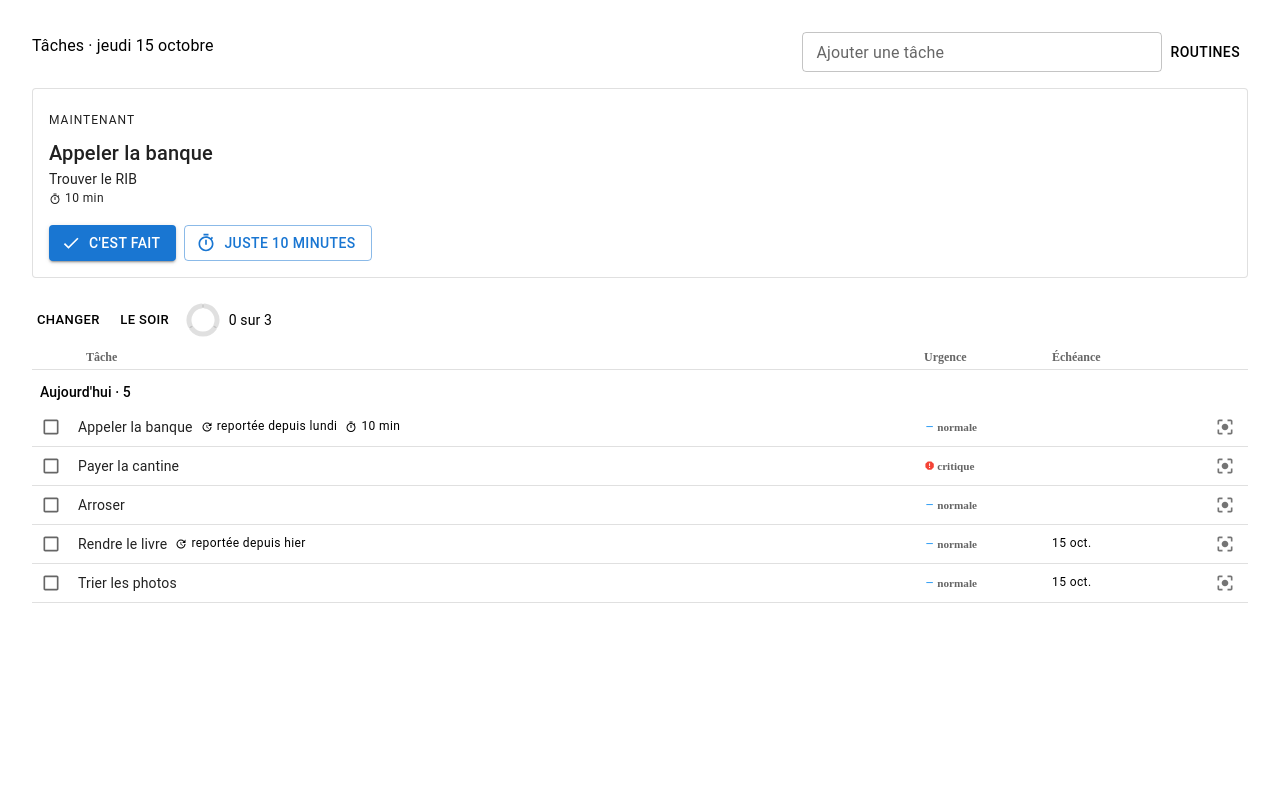
Test: TaskBoard › the bravo (MAG-508) › ticking « Maintenant » opens the bravo: the message, the day so far, the next task, a little sound
Expected: the element "Maintenant" is shown, [32,88,1248,278]
Click the button "C'est fait": (113, 243) [49,225,176,261]
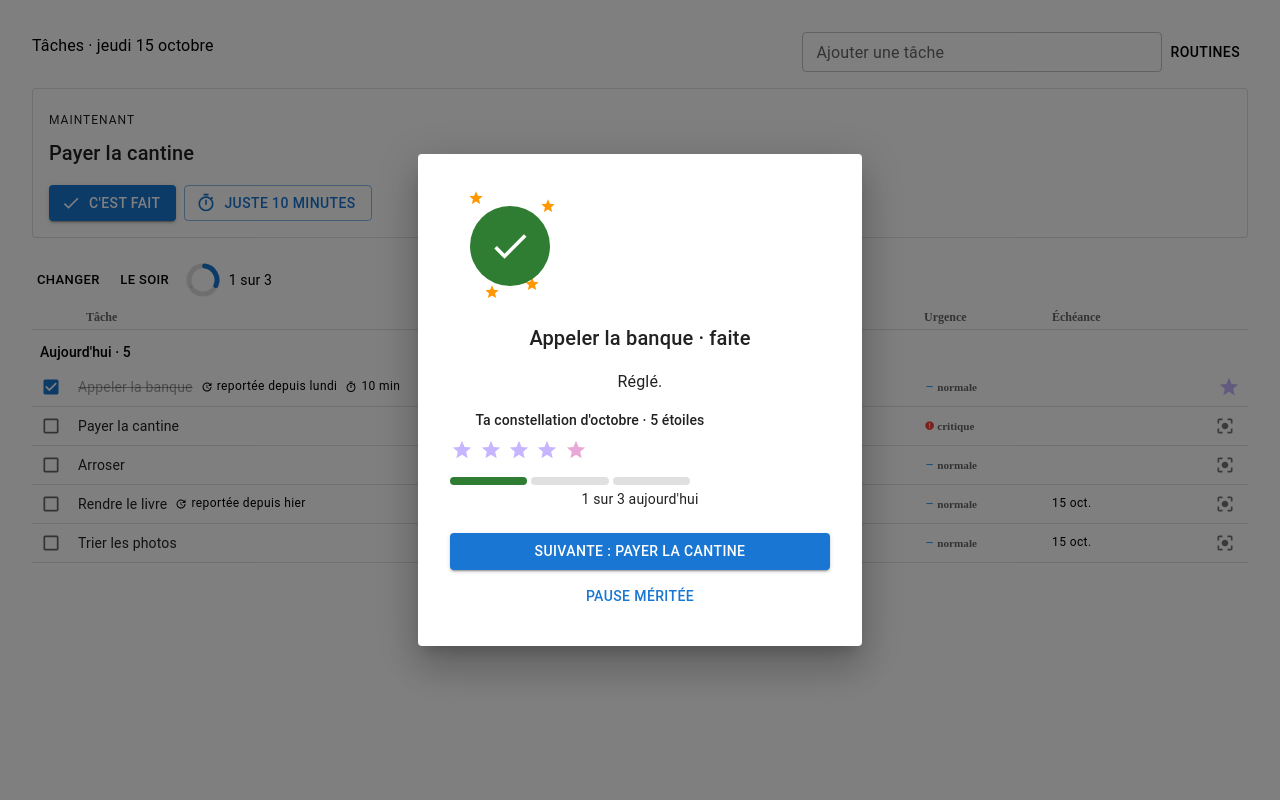
Now the dialog "Appeler la banque · faite" shows "Réglé.", box [618,372,662,390]
Now the dialog "Appeler la banque · faite" shows "1 sur 3 aujourd'hui", box [418,154,862,646]
Now the button "Suivante : Payer la cantine" is shown, box [450,534,830,570]
